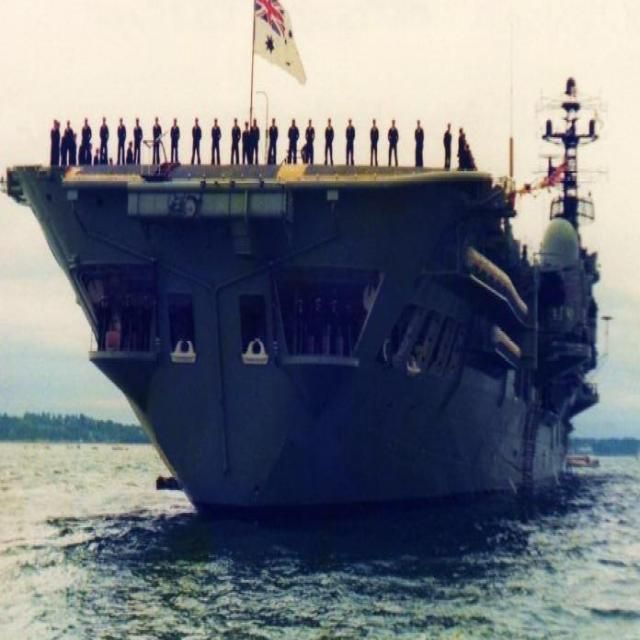Portanaves: (1, 1, 609, 525)
